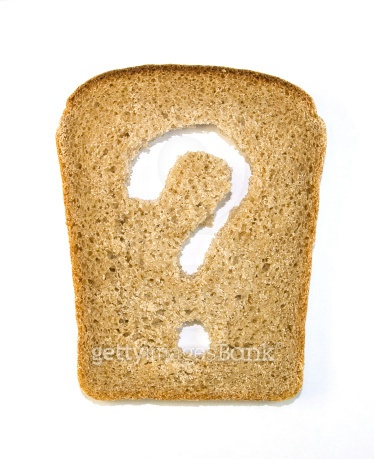slice of bread: (56, 55, 324, 404)
